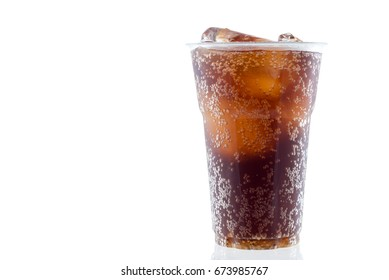plastic_glass: (181, 33, 328, 255)
